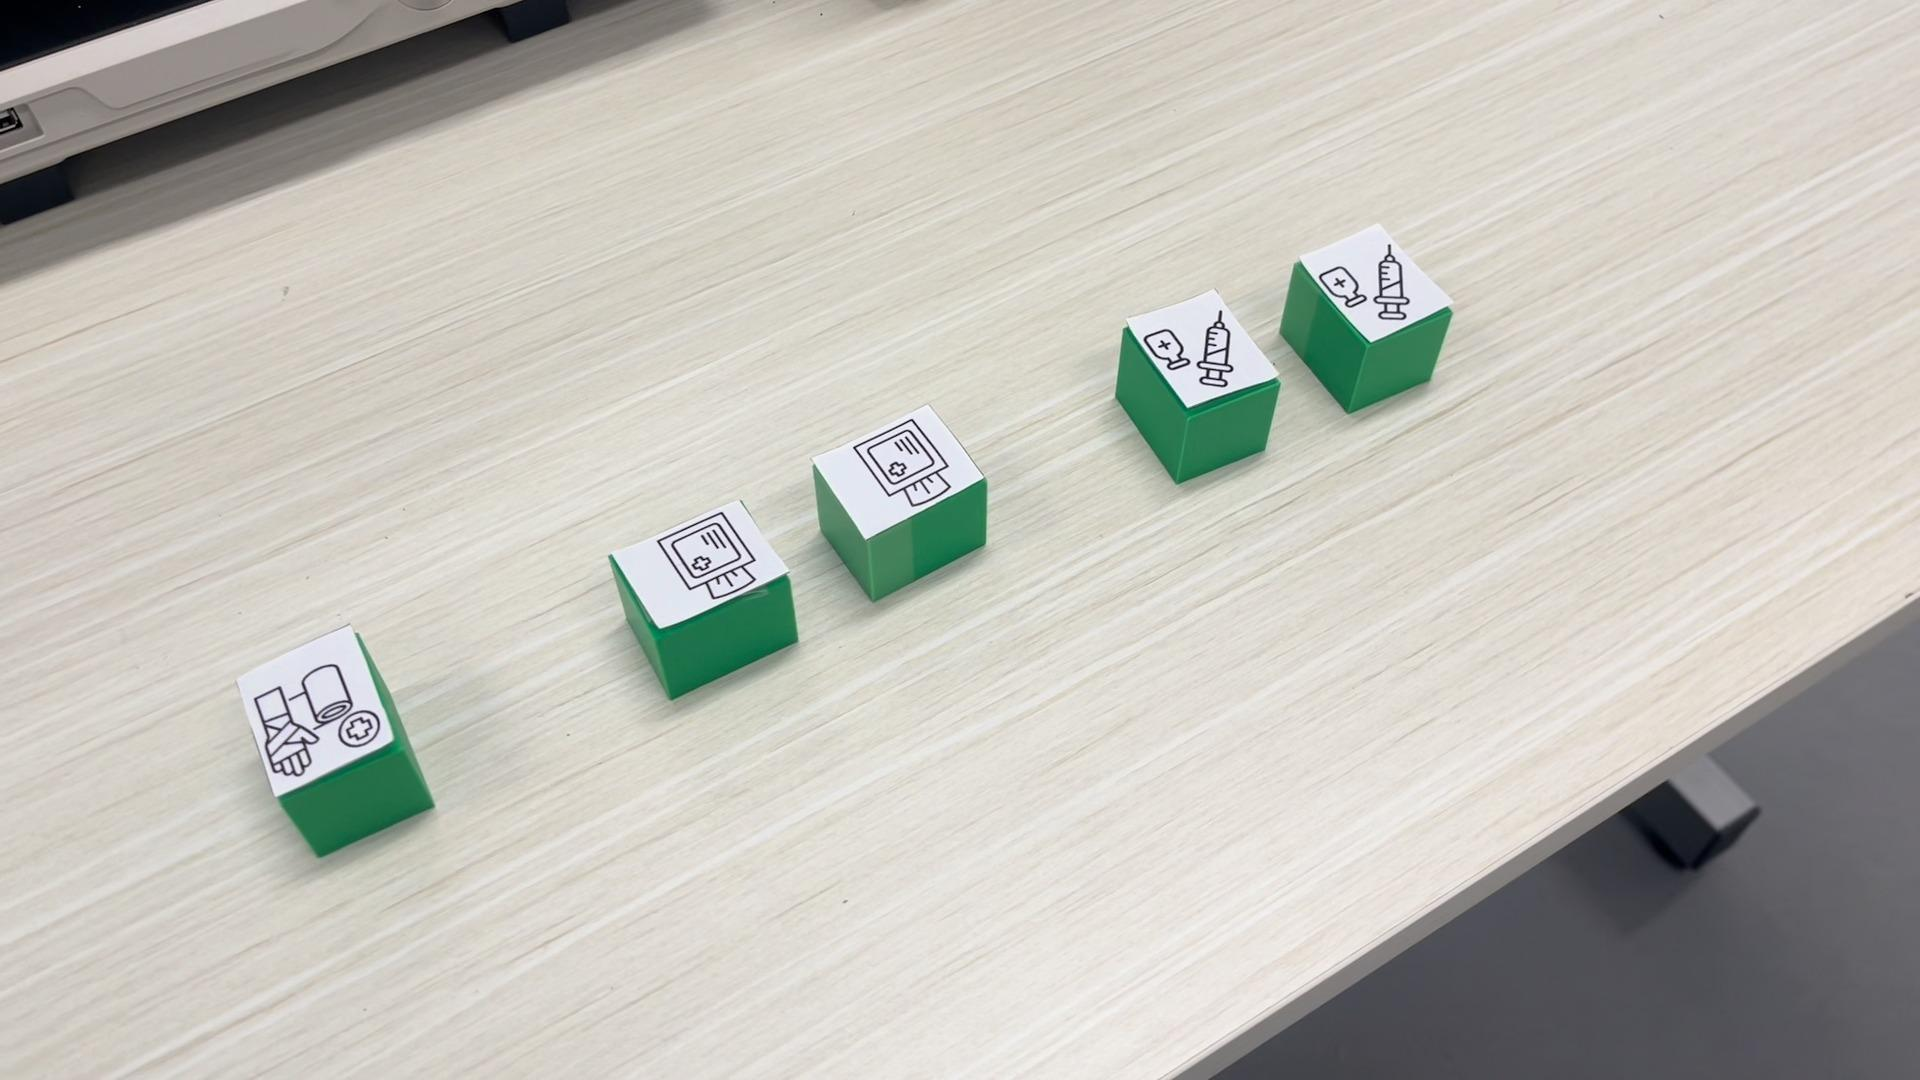Bandages: (233, 624, 435, 857)
Gauze: (607, 496, 800, 698), (808, 402, 988, 600)
antiseptic cream: (1279, 222, 1456, 411), (1114, 289, 1280, 483)
